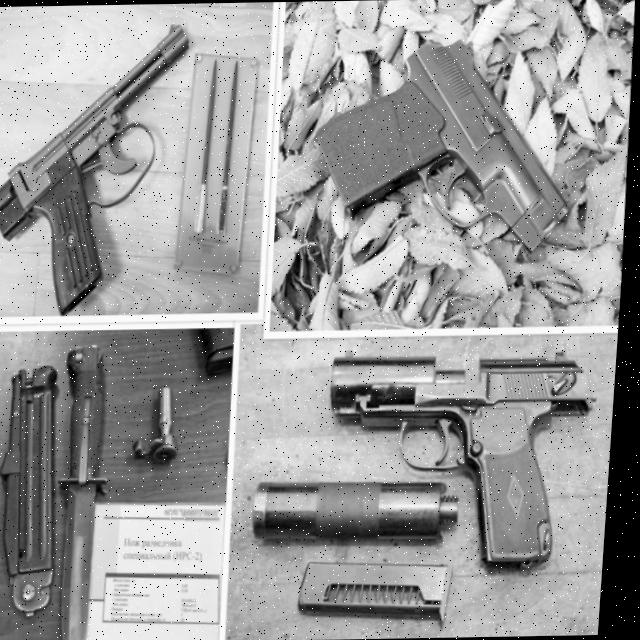knife: (49, 344, 123, 640)
pistol: (324, 342, 608, 576), (309, 32, 582, 255), (0, 20, 196, 318)
